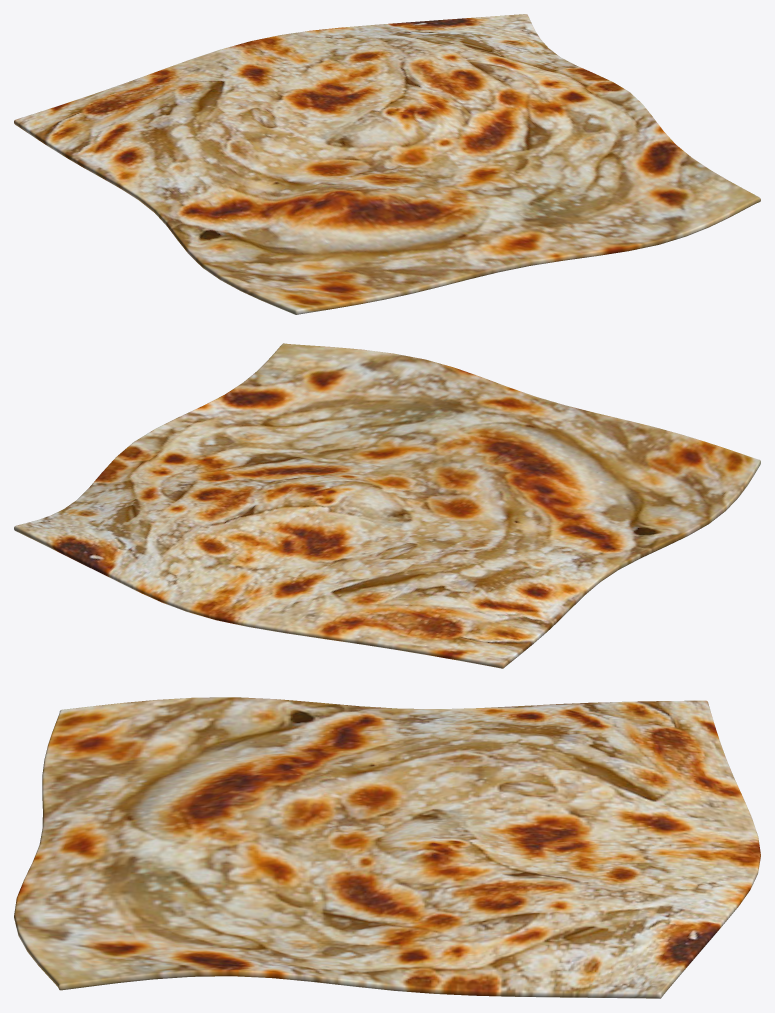
File: RotiCanai.fbx
3 renders of one model, top to bottom at view 1: azimuth 30°, elevation 25°; view 2: azimuth 150°, elevation 25°; view 3: azimuth 270°, elevation 25°, orthographic. The views are drawn at different scales.
Visible parts, largest first — view 1: RotiCanai; view 2: RotiCanai; view 3: RotiCanai.
Boxes of the visible parts, left/top/right/bottom form: RotiCanai: left=14, top=14, right=760, bottom=314; RotiCanai: left=14, top=343, right=760, bottom=668; RotiCanai: left=14, top=697, right=760, bottom=998.
Bounding box in the file's own units: 28.57 × 1.53 × 30.35.
Materials: 1 (1 with a texture image).
